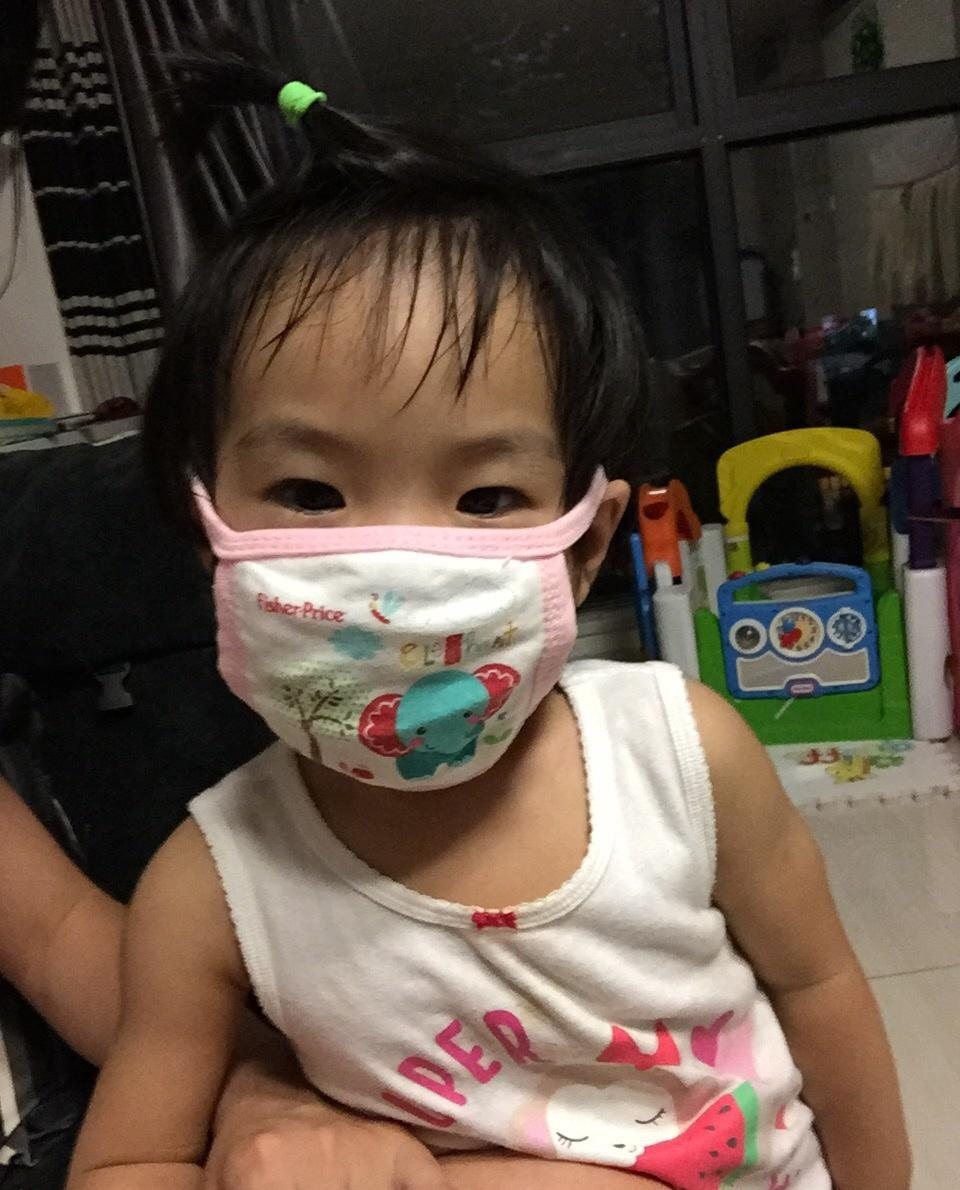OK: (201, 392, 594, 785)
